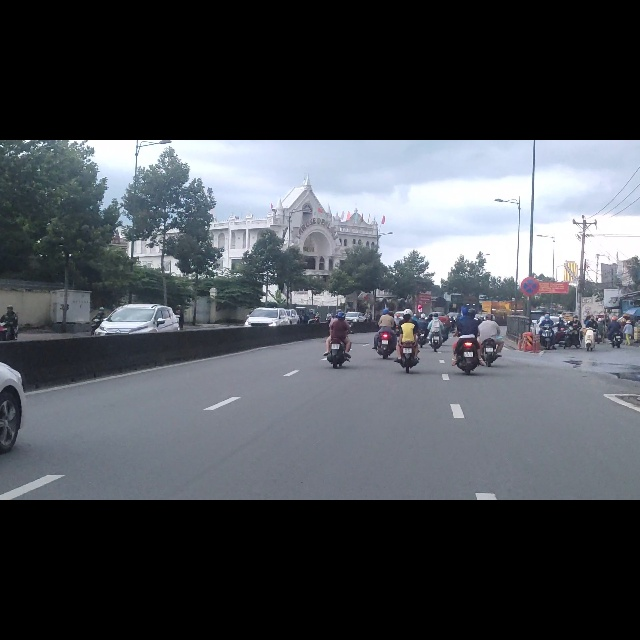bien_cam: (521, 244, 539, 275)
